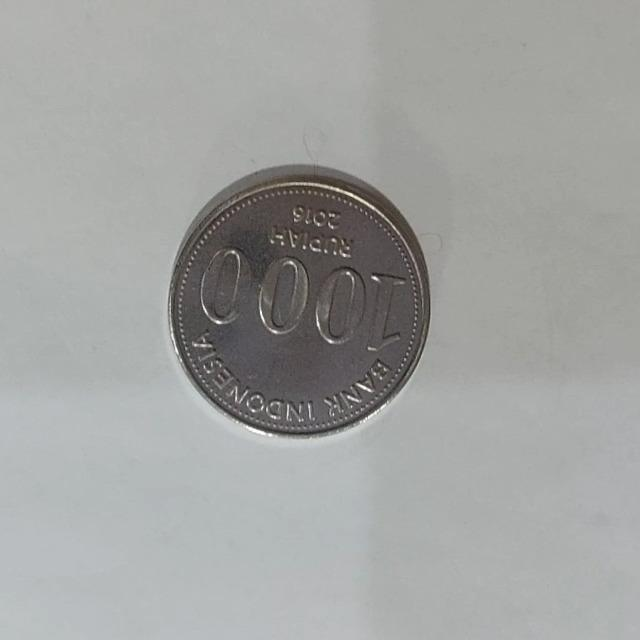Rp100: (165, 162, 432, 439)
